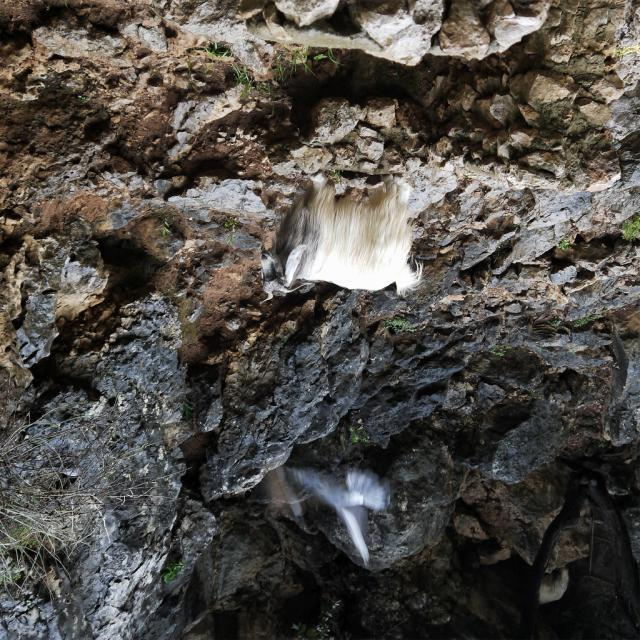Goat: (259, 171, 425, 306), (538, 568, 571, 606)
